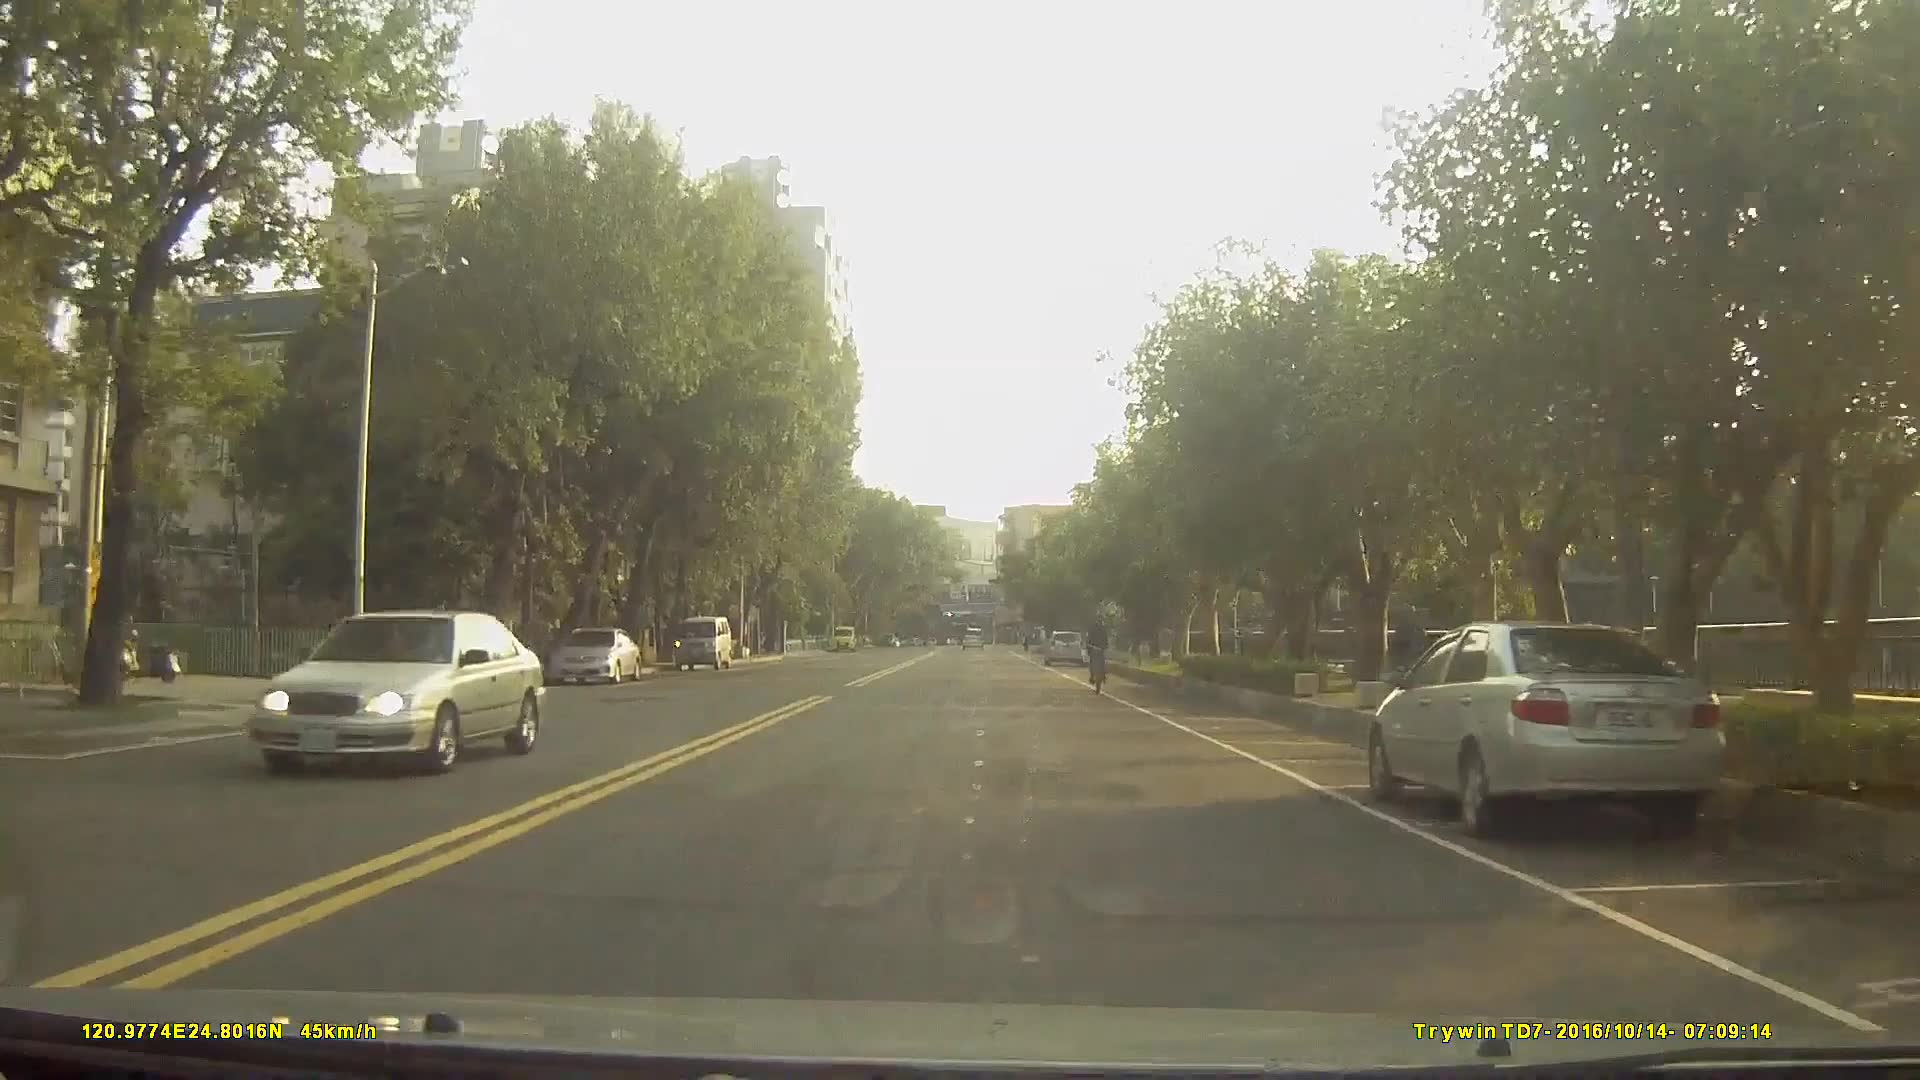rider: (1086, 616, 1114, 700)
vehicle: (1364, 618, 1731, 841), (240, 606, 546, 773), (551, 625, 640, 688), (672, 616, 733, 673), (1042, 626, 1086, 665), (960, 622, 985, 648)
